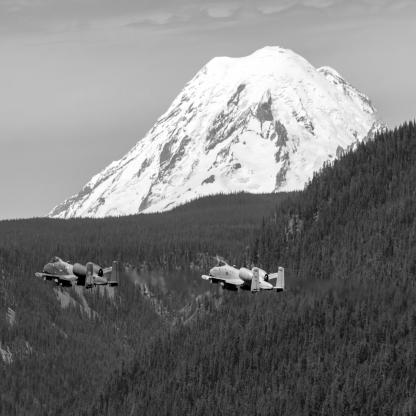A10: (36, 257, 120, 290), (202, 262, 286, 294)
